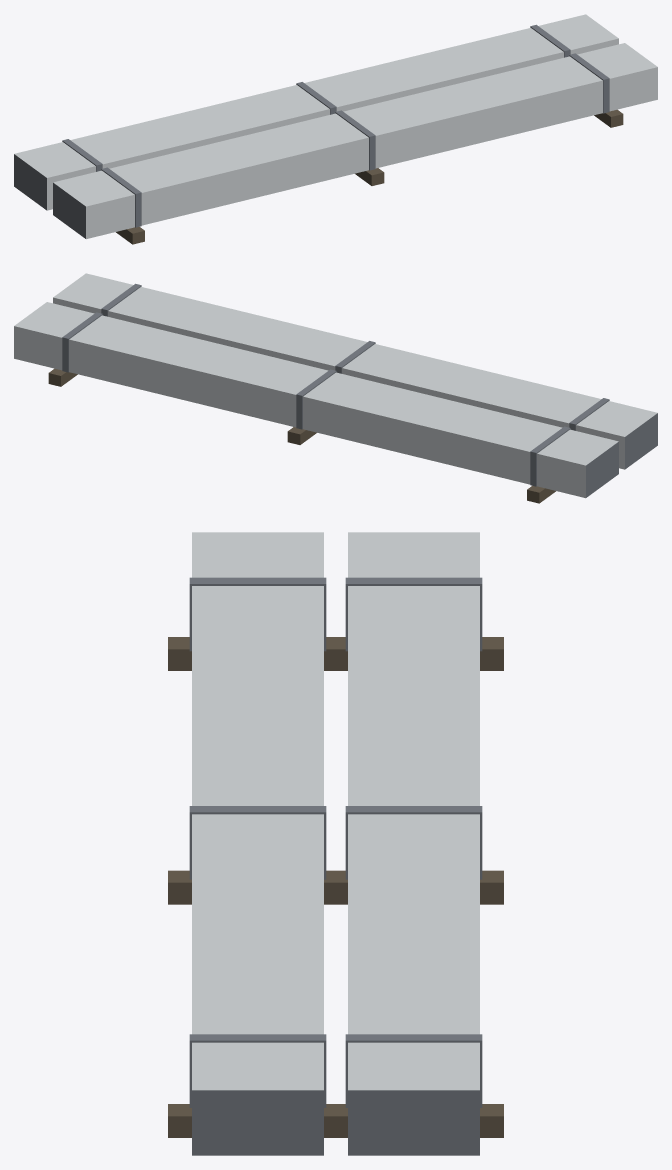
The model's file is scatter3.fbx.
The picture shows the model from 3 angles, top to bottom: view 1: azimuth 30°, elevation 25°; view 2: azimuth 150°, elevation 25°; view 3: azimuth 270°, elevation 25°; orthographic projection. The views are drawn at different scales.
Visible parts, largest first — view 1: a1096/0/scatter3; view 2: a1096/0/scatter3; view 3: a1096/0/scatter3.
Part boxes in pixels (x1=…): a1096/0/scatter3: x1=14, y1=14, x2=657, y2=244; a1096/0/scatter3: x1=14, y1=273, x2=657, y2=503; a1096/0/scatter3: x1=168, y1=532, x2=503, y2=1155.
Size of the model in its own units: 5.5 by 0.41 by 1.4.
